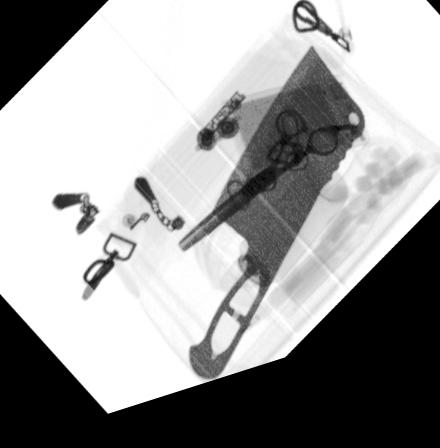Knife: (183, 66, 365, 393)
Powerbank: (227, 94, 369, 199)
Scissors: (175, 128, 362, 266)
Sprayer: (219, 176, 347, 327)
